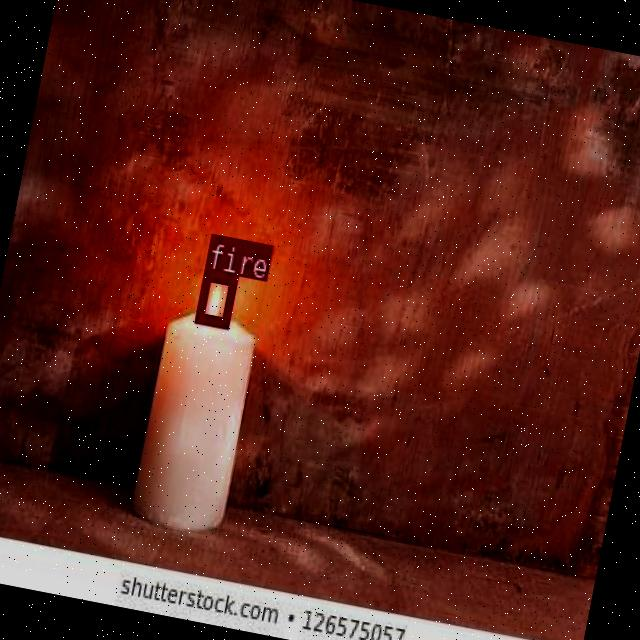fire: (194, 268, 236, 326)
